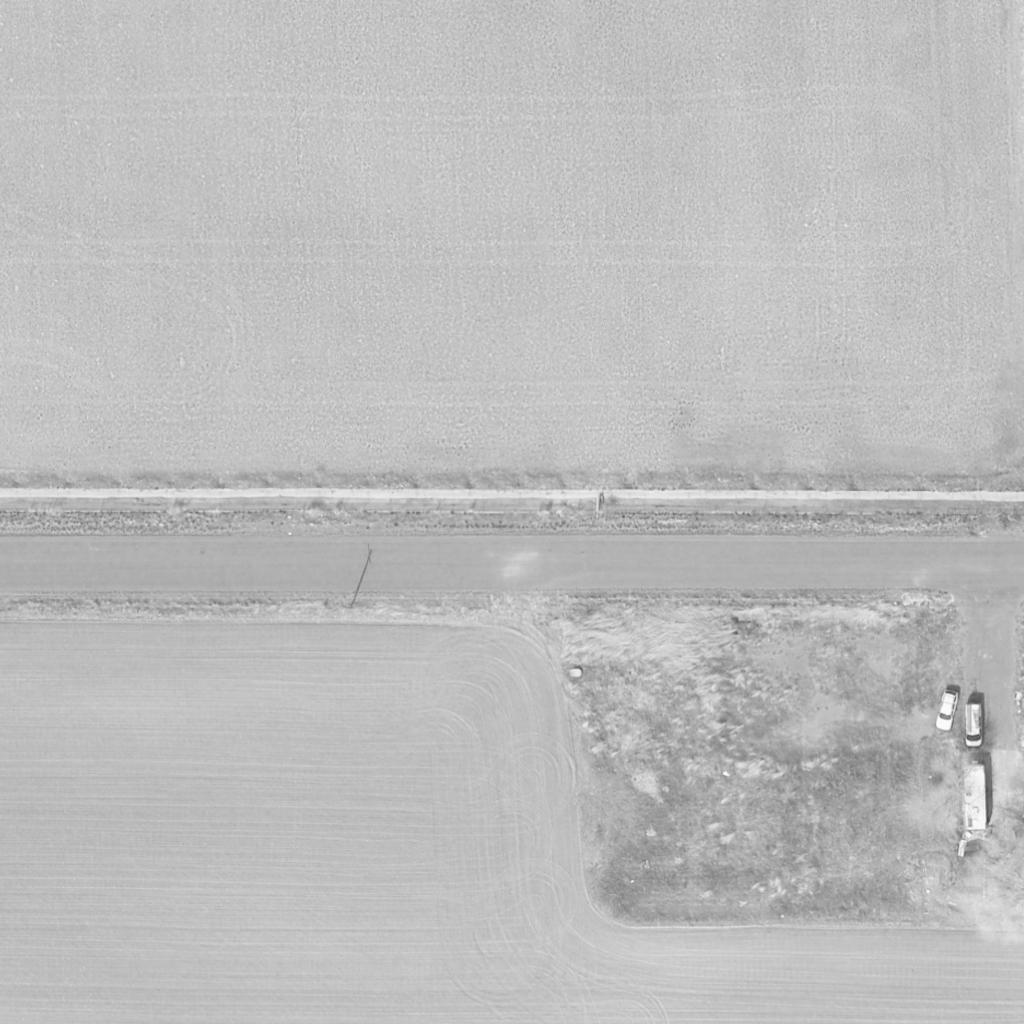vehicle: (961, 764, 987, 832), (931, 688, 961, 734), (964, 704, 984, 750)
